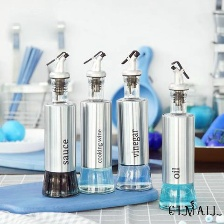bottle: (156, 86, 200, 213), (38, 76, 81, 201), (116, 67, 156, 195), (76, 68, 114, 196)
